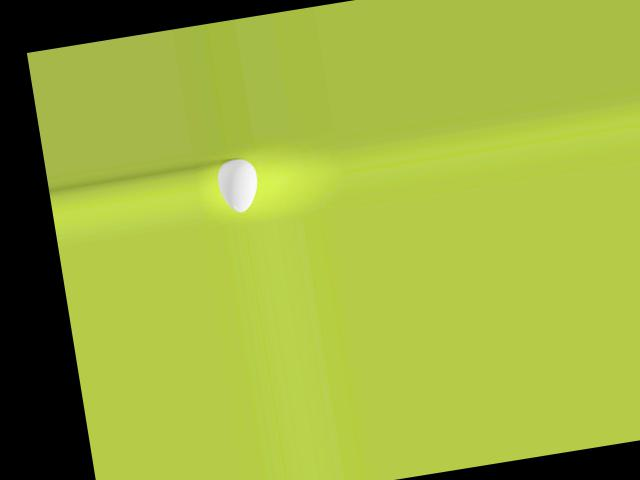egg: (214, 156, 261, 215)
